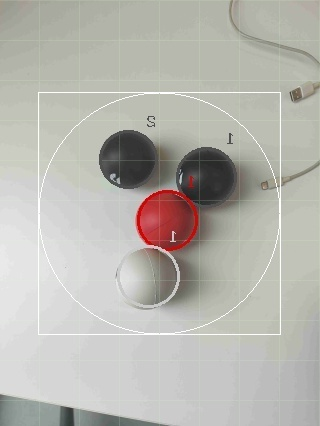Pelota blanca: (114, 246, 183, 310)
Pelota negra: (175, 145, 238, 206), (98, 129, 159, 190)
Pelota roja: (135, 188, 201, 251)
